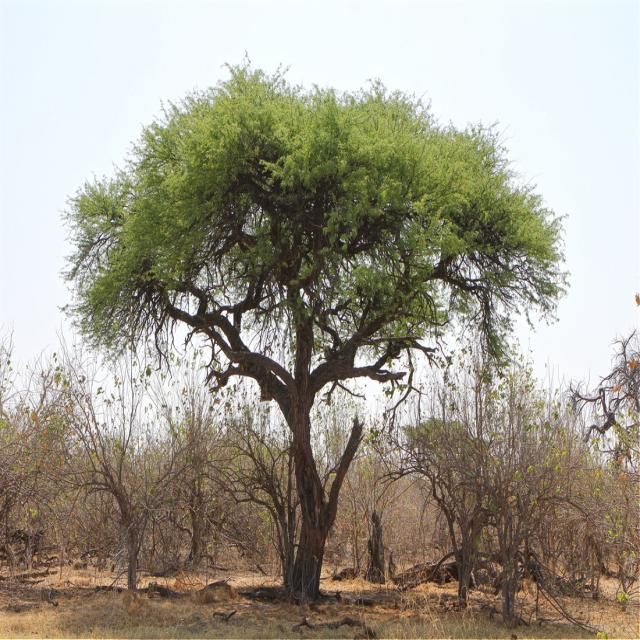Acacia: (63, 44, 550, 584)
